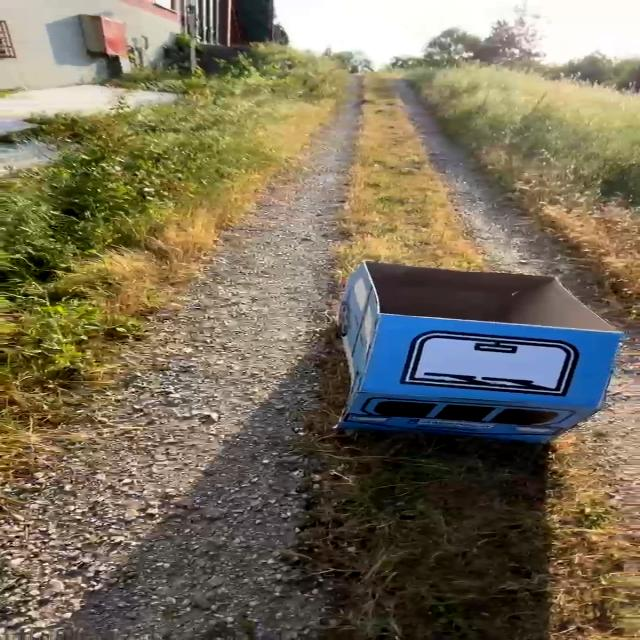blue_car: (265, 238, 640, 478)
